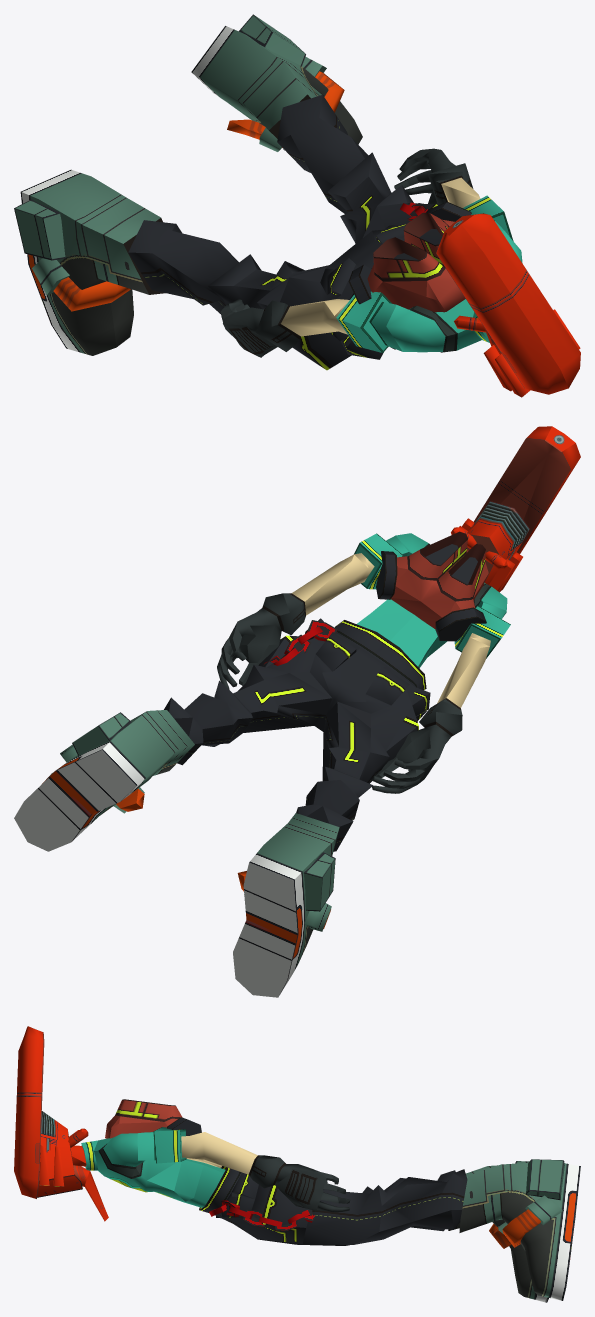
The model's file is player.glb.
3 views of the same model, one above another, from view 1: azimuth 30°, elevation 25°; view 2: azimuth 150°, elevation 25°; view 3: azimuth 270°, elevation 25° (orthographic). The views are drawn at different scales.
Visible parts, largest first — view 1: mesh_6_282.nr; view 2: mesh_6_282.nr; view 3: mesh_6_282.nr.
Boxes of the visible parts, x1,y1,x2,y2 form: mesh_6_282.nr: (14, 14, 580, 397); mesh_6_282.nr: (14, 426, 580, 997); mesh_6_282.nr: (14, 1026, 580, 1302).
Bounding box in the file's own units: 0.905 × 0.9821 × 1.8.
Materials: 1 (1 with a texture image).
